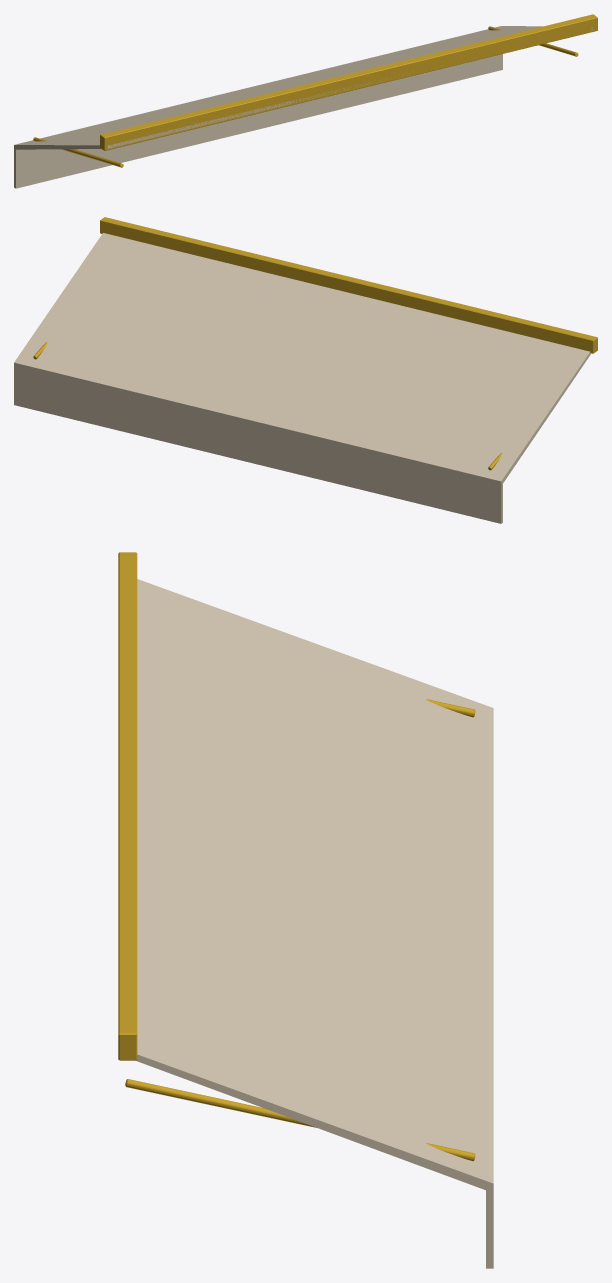
The model's file is prop_awning.glb.
3 renders of one model, top to bottom at view 1: azimuth 30°, elevation 25°; view 2: azimuth 150°, elevation 25°; view 3: azimuth 270°, elevation 25°, orthographic. The views are drawn at different scales.
Visible parts, largest first — view 1: Awning; view 2: Awning; view 3: Awning.
Boxes of the visible parts, box(x1,y1,x2,y2) form: Awning: box(14, 14, 597, 188); Awning: box(14, 217, 597, 523); Awning: box(118, 552, 493, 1268).
Size of the model in its own units: 3.04 by 0.7 by 1.
